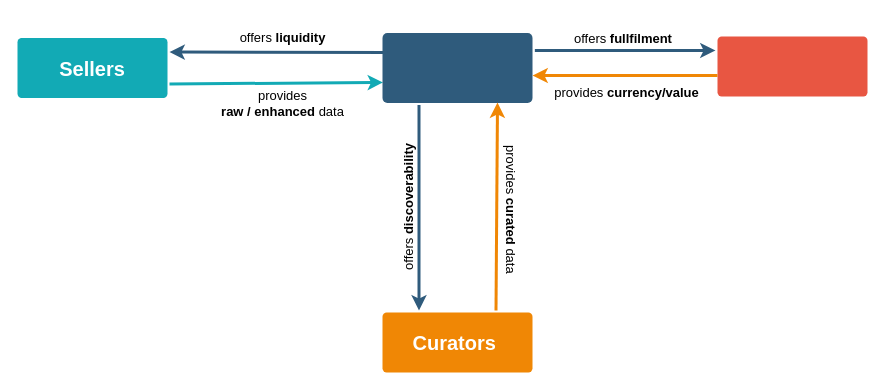
The diagram is 884 pixels wide and 389 high, and some of its shapes have lost their labels. The shapes that lost their labels are listed below. From the top down, each one's centre as x and y in pixels, then its label:
the point at 457,67: Market
the point at 792,66: Buyers
